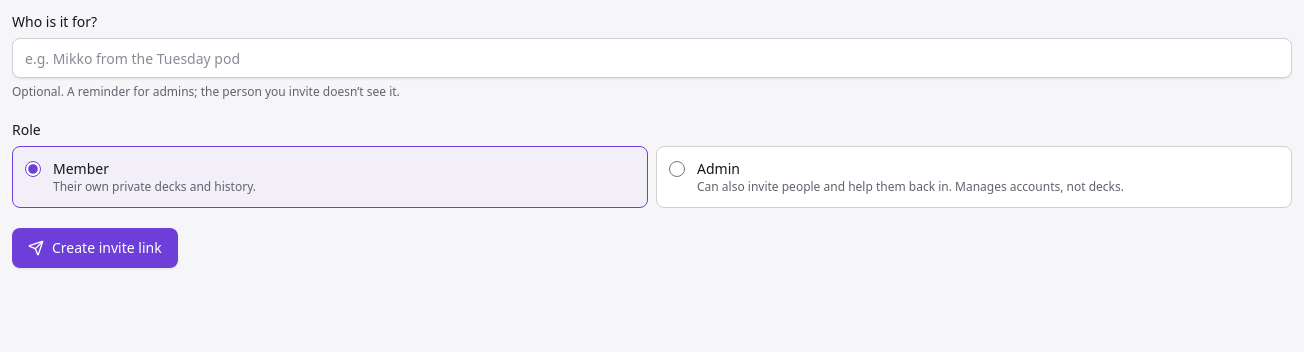
Test: InviteForm › sends the admin role and keeps the values when it fails
Click the radio button labelled "Admin".
click(677, 169)  # box [669,161,685,177]
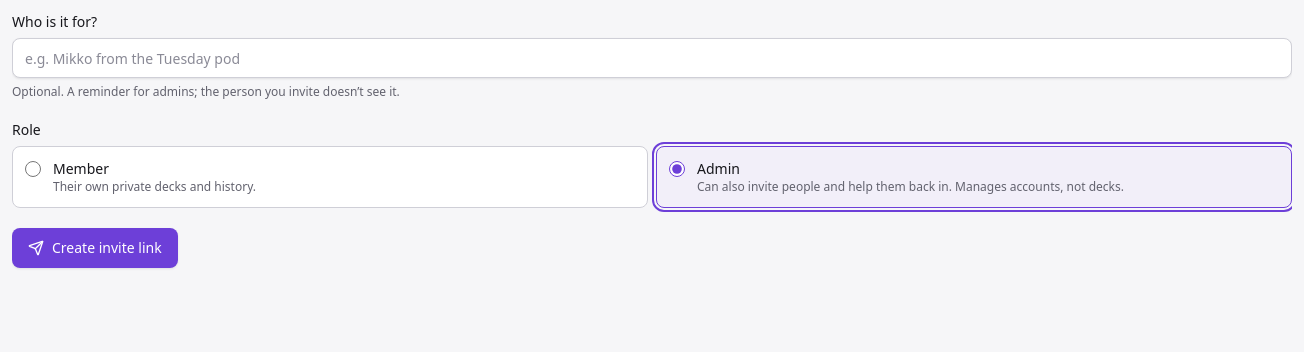
Type "Way too long" into the field labelled "Who is it for?".
click(652, 58); type("Way too long")  # box [12,38,1292,78]
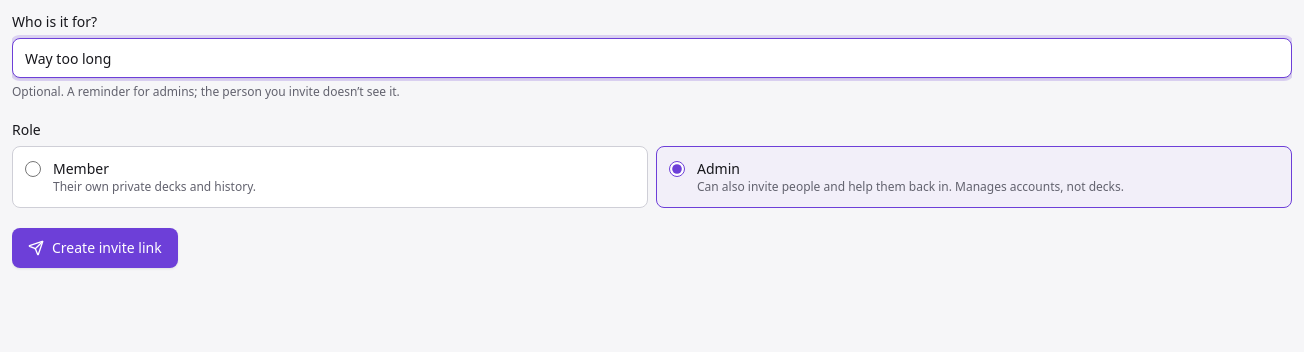
Click the button "Create invite link".
click(95, 248)  # box [12,228,178,268]
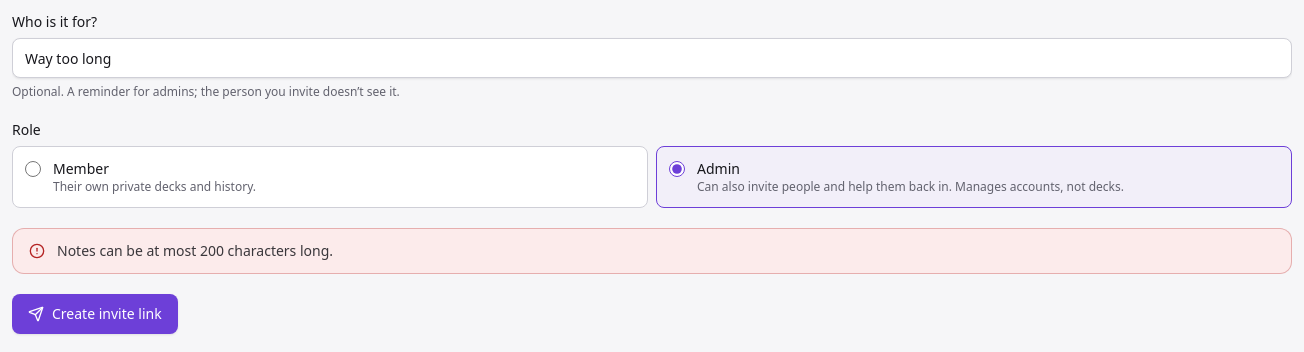
Expected: the field labelled "Who is it for?" holds "Way too long", [12,38,1292,78]
Expected: the radio button labelled "Admin" is checked, [669,161,685,177]
Expected: the message reads "Notes can be at most 200 characters long.", [57,241,333,260]
